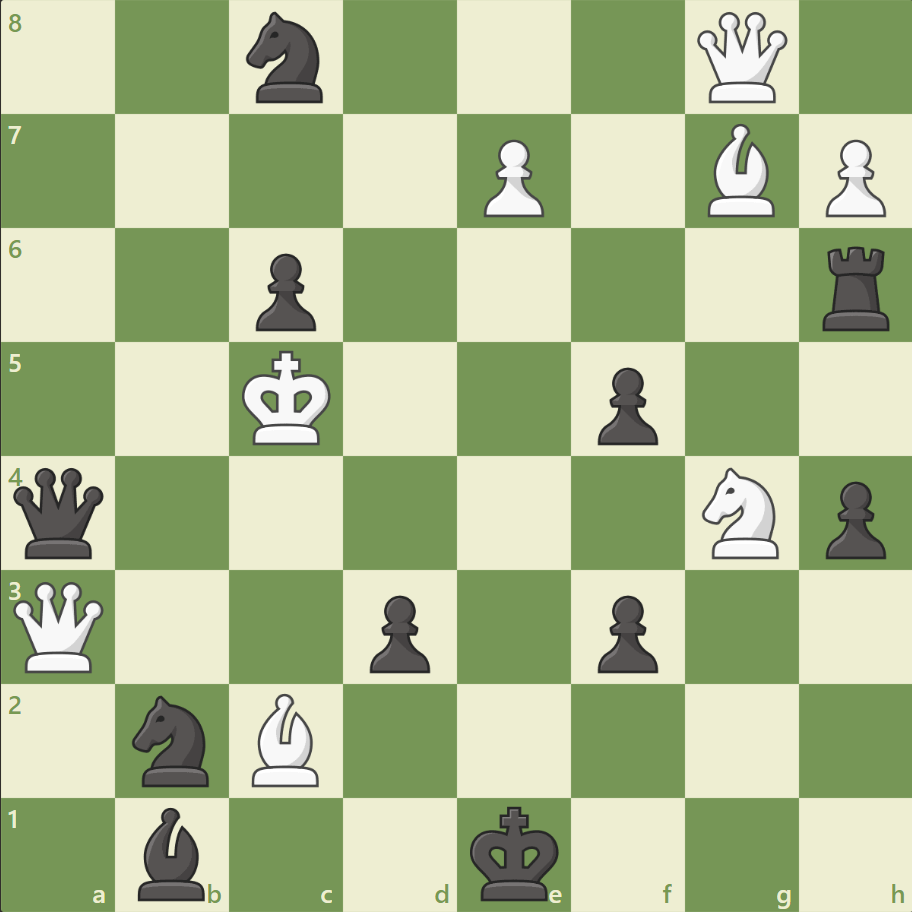B: (244, 687, 328, 790), (698, 120, 782, 222)
K: (238, 344, 338, 452)
N: (692, 461, 789, 564)
P: (474, 132, 549, 223), (815, 132, 889, 223)
Q: (10, 576, 109, 676), (691, 9, 790, 108)
b: (131, 801, 215, 904)
k: (465, 798, 565, 906)
n: (124, 688, 222, 791), (238, 7, 335, 110)
p: (247, 246, 322, 337), (588, 359, 662, 450), (815, 473, 889, 564), (361, 586, 435, 677), (588, 586, 662, 677)
q: (10, 463, 109, 562)
r: (814, 239, 897, 336)
